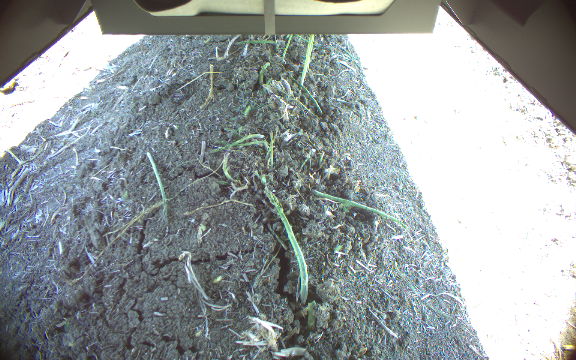aspa: (264, 187, 308, 304), (299, 34, 317, 86), (280, 35, 295, 61), (257, 62, 271, 85), (268, 130, 274, 166)
